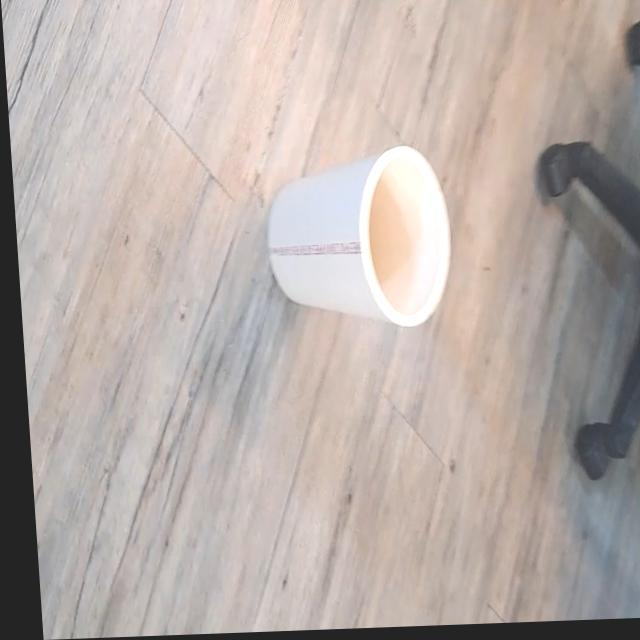CORAL: (259, 135, 458, 345)
